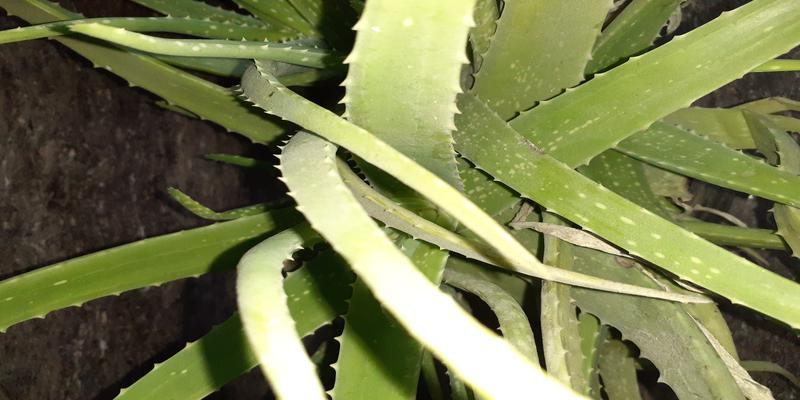Aloevera: (173, 10, 768, 374)
